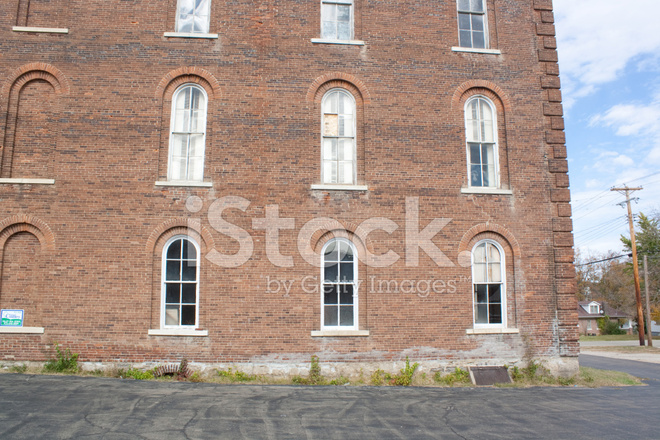Muro: (1, 1, 571, 384)
